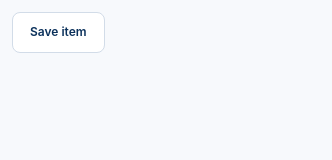
Test: item saving sends no identity and resets saved state when the account changes
This screenshot has width=332, height=160.
Later steps or results of the test are not shown.
Click the button "Save item": (58, 32) [12, 12, 105, 53]
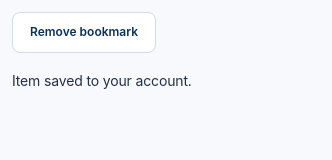
Now the text "Item saved to your account." is shown, box [12, 72, 192, 89]
